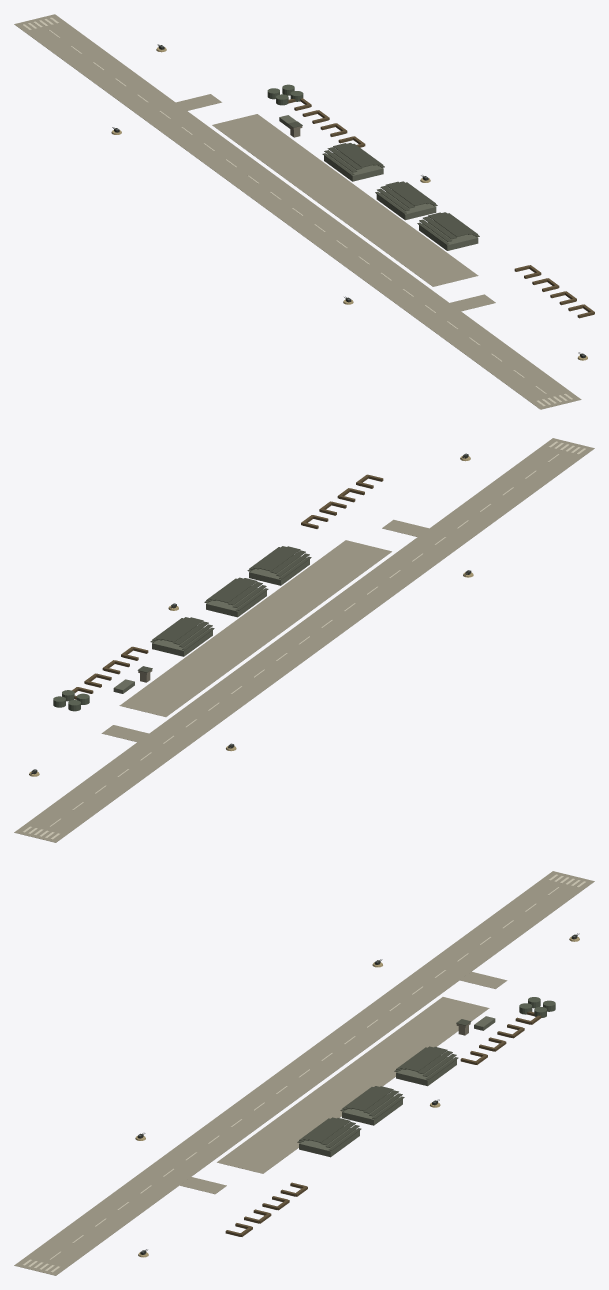
File: airfield.glb
3 views of the same model, one above another, from view 1: azimuth 30°, elevation 25°; view 2: azimuth 150°, elevation 25°; view 3: azimuth 330°, elevation 25° (orthographic). The views are drawn at different scales.
Visible parts, largest first — view 1: Hull; view 2: Hull; view 3: Hull.
Part boxes in pixels (bbox=[...]): Hull: bbox=[14, 14, 594, 409]; Hull: bbox=[14, 438, 594, 842]; Hull: bbox=[14, 871, 594, 1275].
Bounding box in the file's own units: 210 × 12.98 × 1000.
